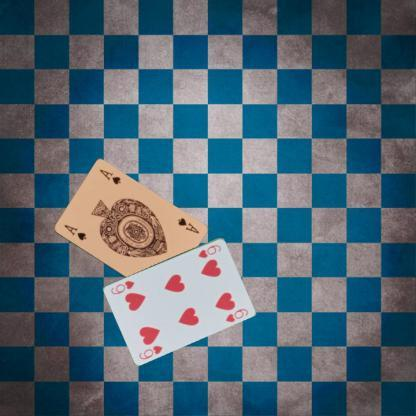6h: (136, 342, 164, 361), (195, 242, 222, 259)
As: (61, 222, 87, 242), (175, 215, 200, 235)
